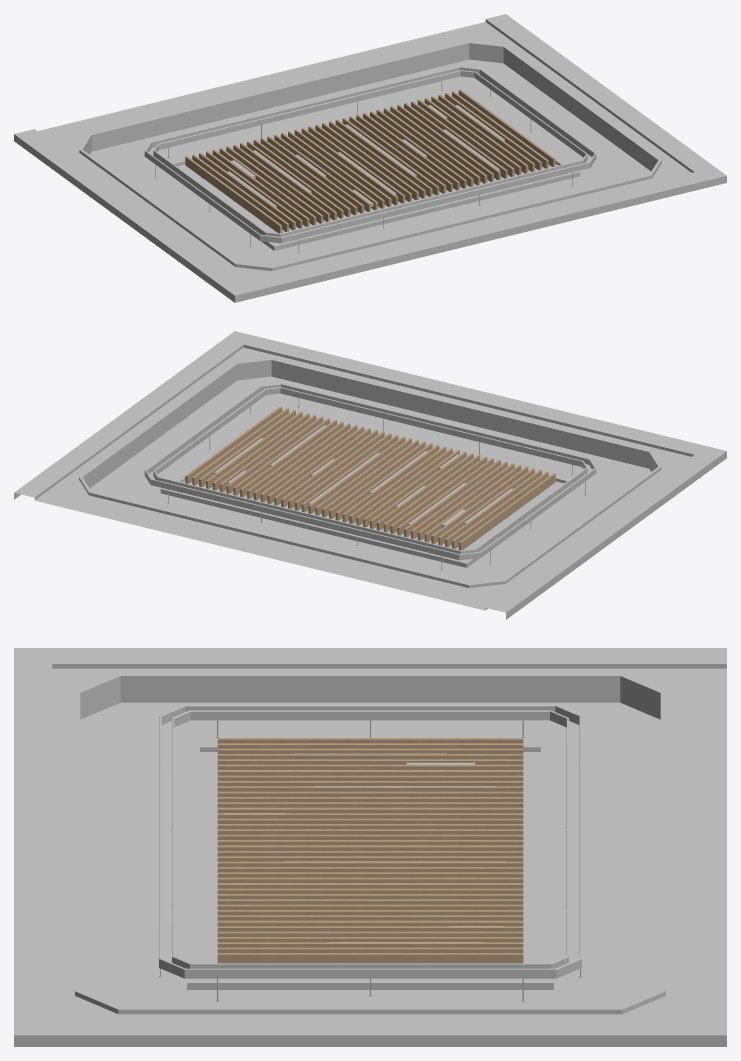
3 views of the same model, one above another, from view 1: azimuth 30°, elevation 25°; view 2: azimuth 150°, elevation 25°; view 3: azimuth 270°, elevation 25° (orthographic). The views are drawn at different scales.
Parts seen in each view (by area): view 1: M_C_007_a_32x24, M_C_007_a_32x24_deco; view 2: M_C_007_a_32x24, M_C_007_a_32x24_deco; view 3: M_C_007_a_32x24, M_C_007_a_32x24_deco.
Part boxes in pixels (x1,y1,x2,y2): M_C_007_a_32x24: [14, 14, 726, 302]; M_C_007_a_32x24_deco: [144, 66, 596, 253]; M_C_007_a_32x24: [14, 331, 726, 619]; M_C_007_a_32x24_deco: [144, 383, 596, 570]; M_C_007_a_32x24: [14, 648, 726, 1046]; M_C_007_a_32x24_deco: [159, 705, 581, 1001].
Bounding box in the file's own units: 36 × 1.41 × 28.
